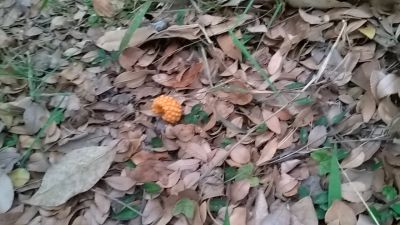eggs: (151, 94, 183, 123)
